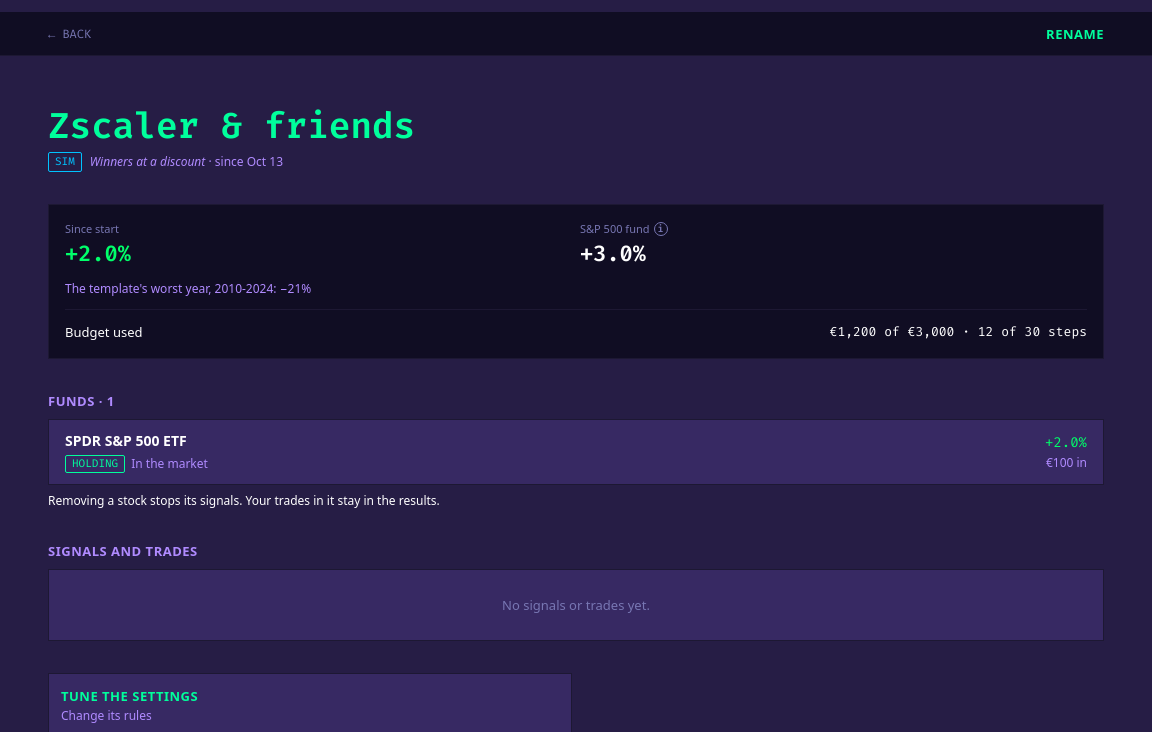
Test: StrategyPage › titles a fund strategy's list Funds and explains the S&P 500 fund only when asked
Expected: the heading "Funds · 1" is shown, [48, 391, 115, 411]
Expected: the text "Buy and hold" is not shown
Click the button named "What is the S&P 500 fund?": (660, 229) [654, 222, 668, 236]
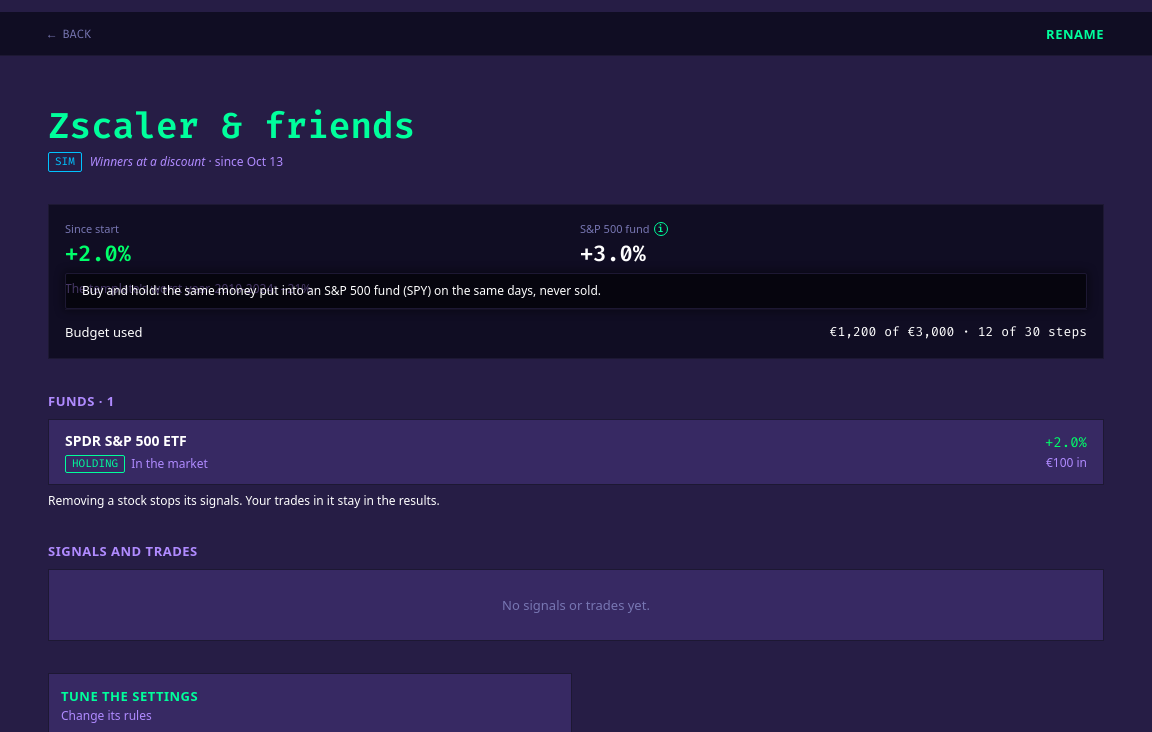
Expected: the button named "What is the S&P 500 fund?" is expanded, [654, 222, 668, 236]
Expected: the text "Buy and hold" is shown, [82, 282, 601, 299]
Press Escape
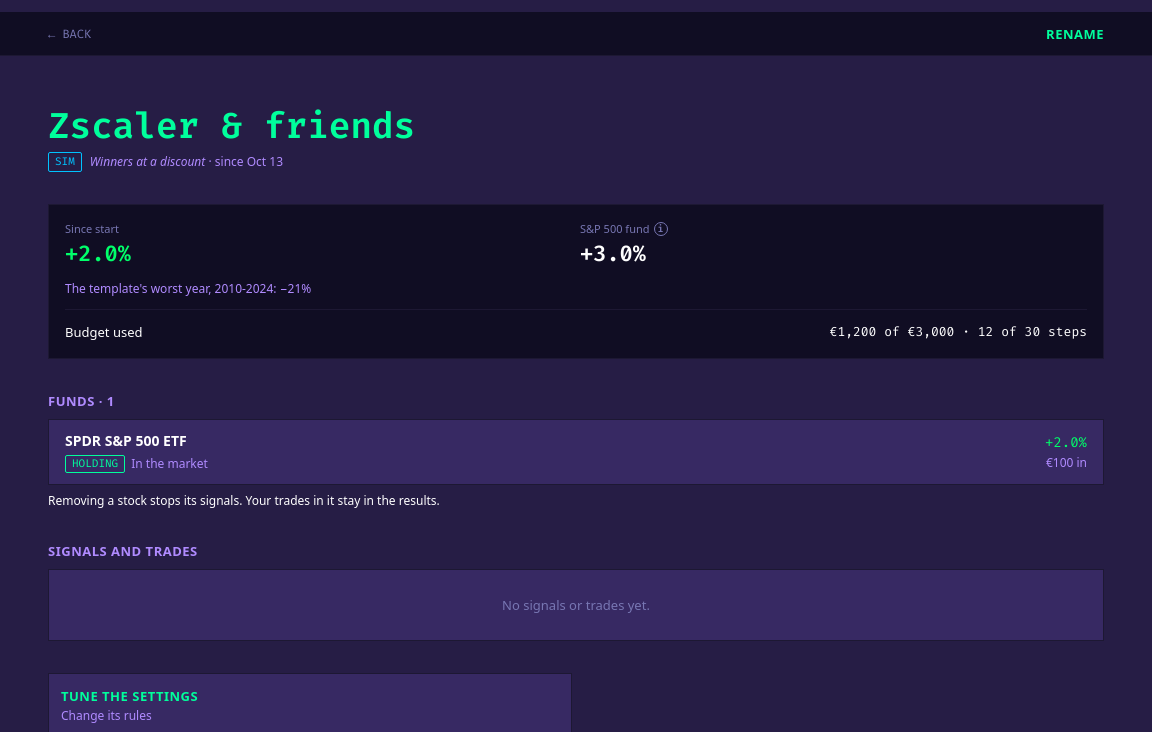
Expected: the text "Buy and hold" is gone
